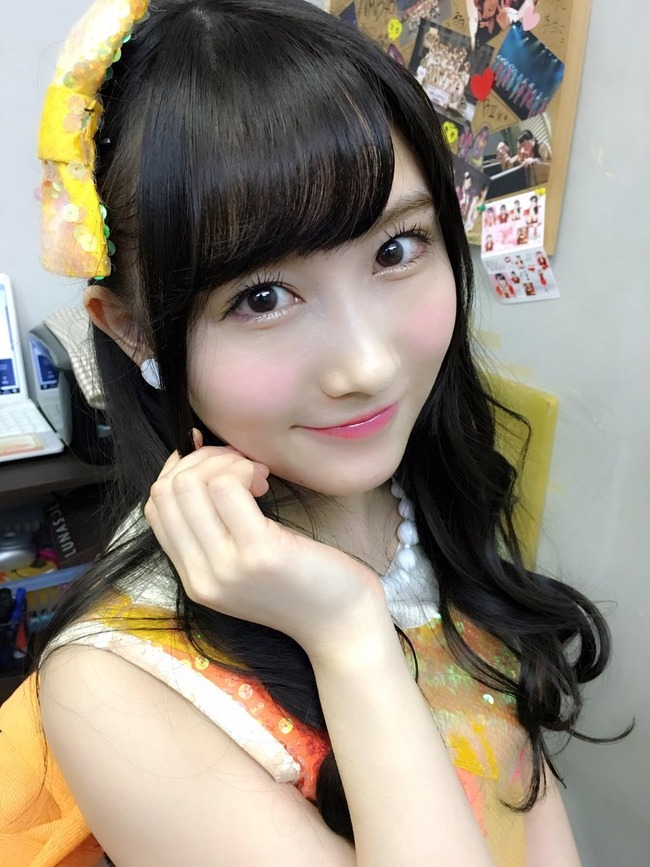face: (183, 108, 457, 495)
hand: (141, 444, 401, 646)
